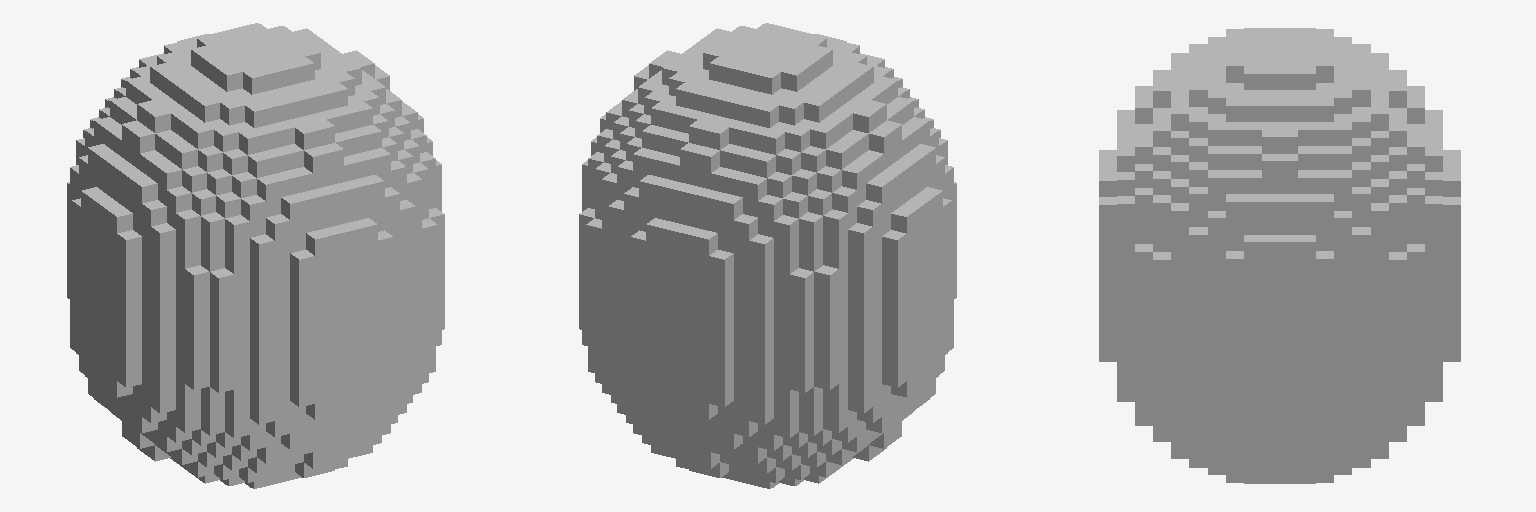
Rendered from Lemon.obj.
The picture shows the model from 3 angles: view 1: azimuth 30°, elevation 25°; view 2: azimuth 150°, elevation 25°; view 3: azimuth 270°, elevation 25°; orthographic projection.
Visible parts, largest first — view 1: object 1; view 2: object 1; view 3: object 1.
Boxes of the visible parts, box(x1,y1,x2,y2) form: object 1: box(67, 23, 444, 488); object 1: box(579, 23, 956, 488); object 1: box(1099, 28, 1460, 483).
Size of the model in its own units: 2 by 2.5 by 2.